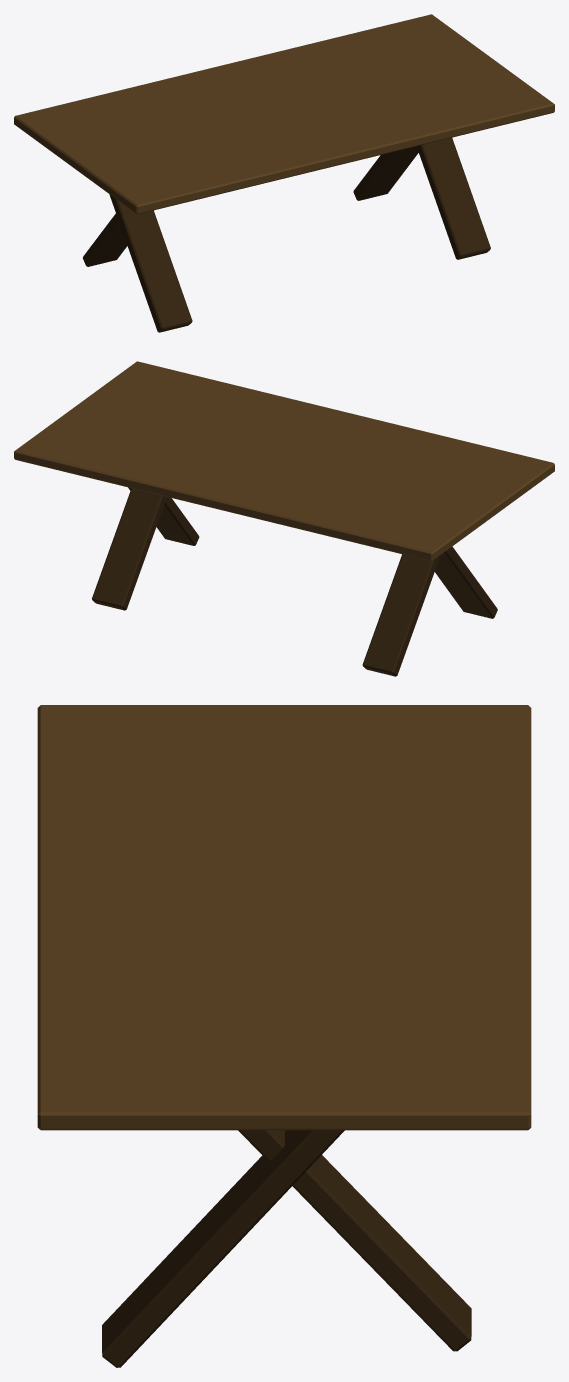
File: WoodenTable.fbx
3 views of the same model, one above another, from view 1: azimuth 30°, elevation 25°; view 2: azimuth 150°, elevation 25°; view 3: azimuth 270°, elevation 25° (orthographic). The views are drawn at different scales.
Visible parts, largest first — view 1: polySurface4; view 2: polySurface4; view 3: polySurface4.
Part boxes in pixels (<box>): polySurface4: <box>14,14,554,332</box>; polySurface4: <box>14,361,554,676</box>; polySurface4: <box>37,705,531,1367</box>.
Bounding box in the file's own units: 372 × 129 × 190.
